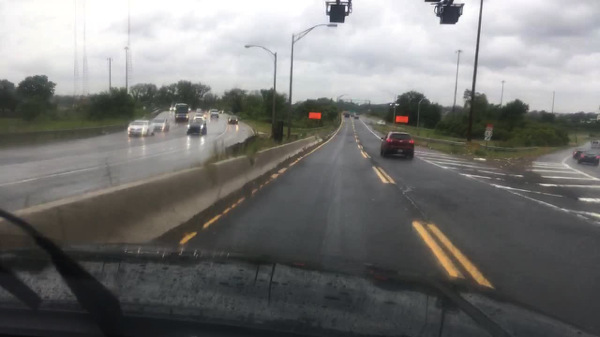bus: (175, 104, 190, 123)
car: (379, 130, 414, 158), (126, 119, 153, 139), (186, 120, 206, 138), (575, 150, 598, 165), (152, 118, 170, 132), (572, 148, 585, 160), (227, 115, 237, 125), (591, 140, 599, 150), (210, 110, 219, 118), (193, 114, 203, 121), (375, 120, 386, 126), (168, 106, 176, 112), (343, 111, 349, 118), (353, 114, 359, 121), (587, 132, 595, 137), (349, 112, 354, 118), (218, 110, 224, 114), (196, 109, 201, 112)
traffic light: (440, 6, 458, 25), (329, 4, 345, 24)
traffic sign: (484, 124, 492, 141), (308, 111, 321, 119), (396, 116, 407, 124), (424, 1, 440, 4)
